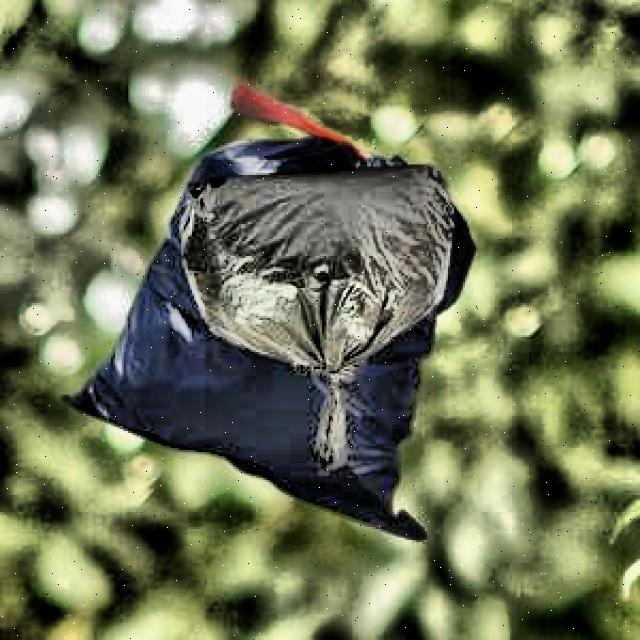Trashbag: (160, 149, 478, 373)
